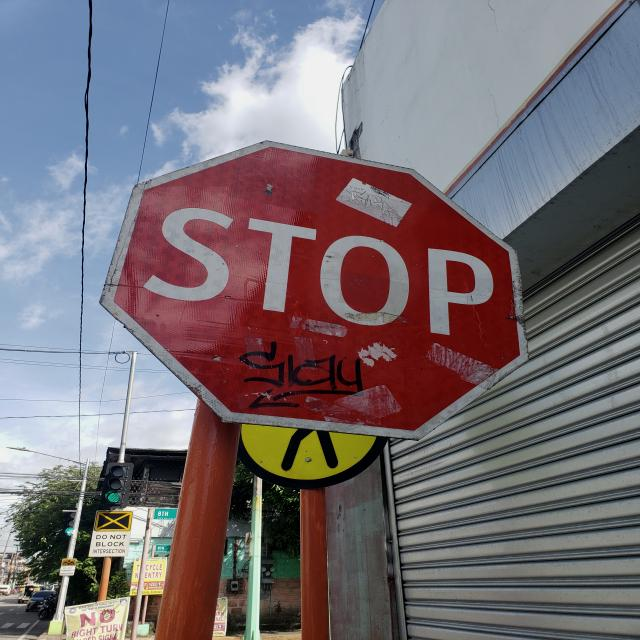stop-sign: (97, 139, 531, 441)
